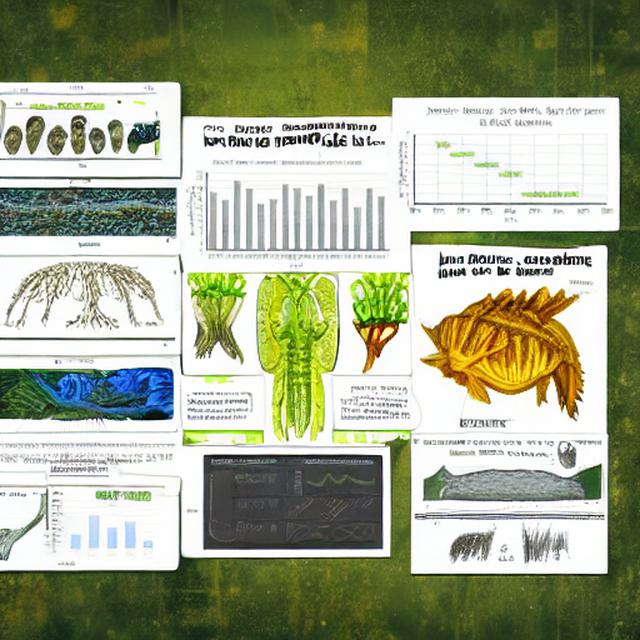Graph: (393, 99, 616, 226), (186, 156, 391, 269), (287, 458, 383, 522), (63, 502, 156, 553)
